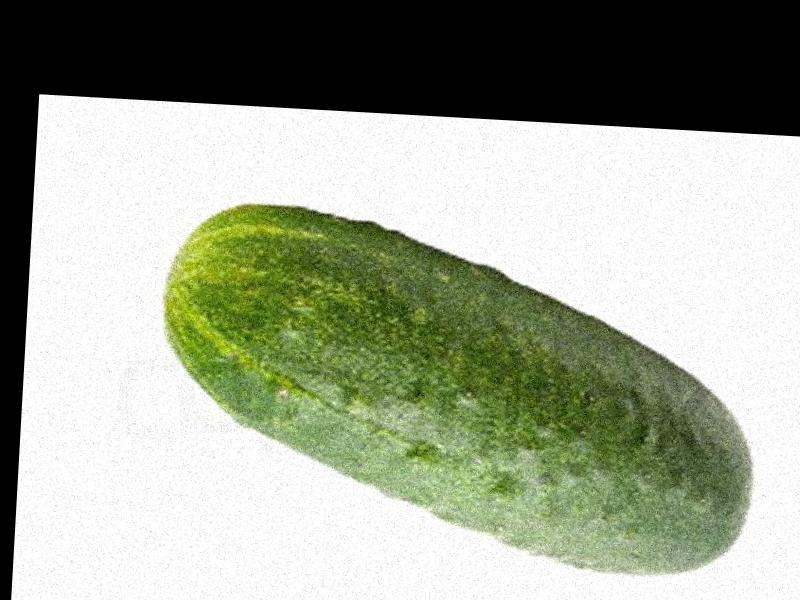Cucumber: (148, 204, 765, 583)
